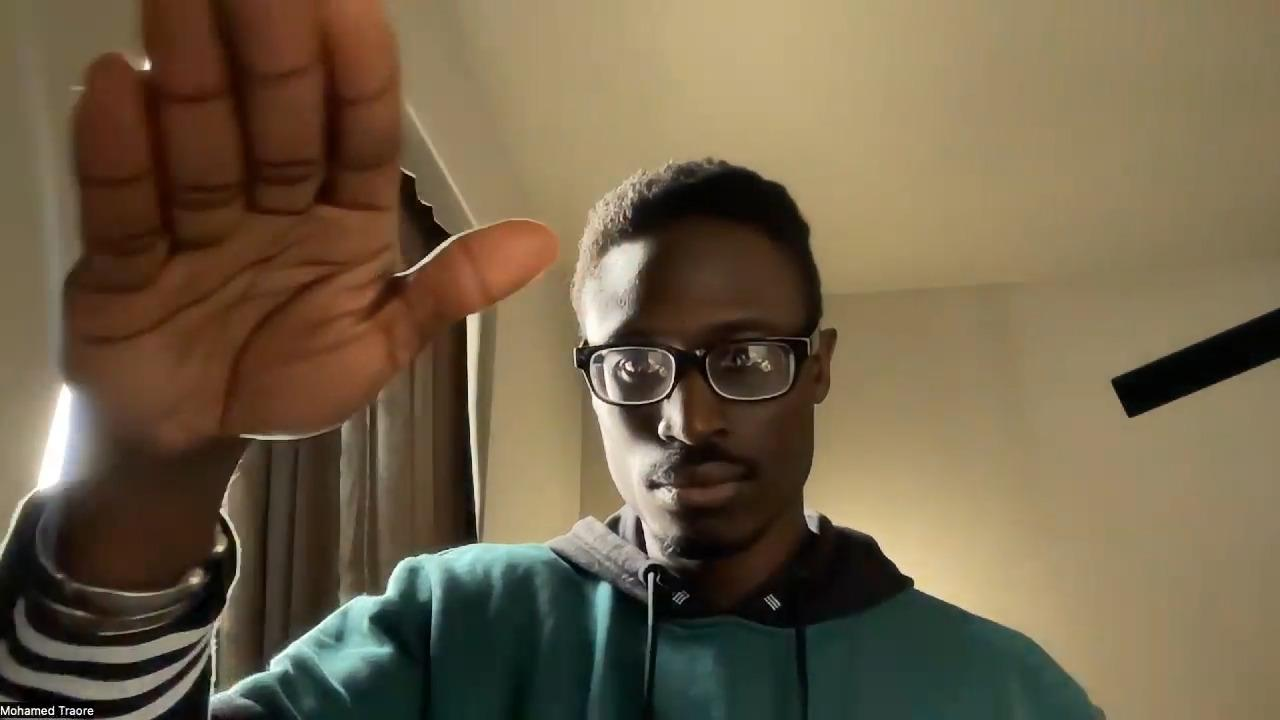Paper: (57, 0, 558, 452)
